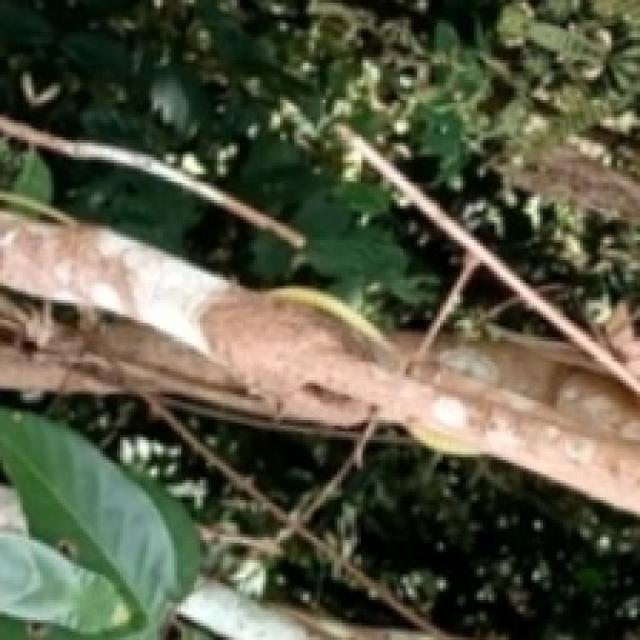paradise tree snake: (0, 197, 637, 511)
